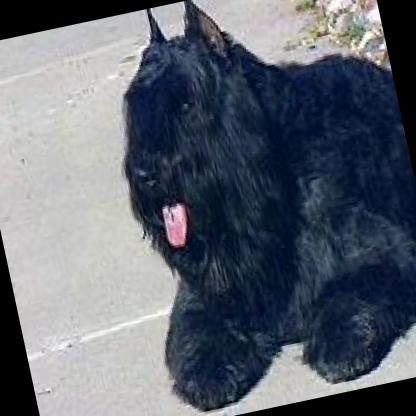Bouvier_des_Flandres: (81, 0, 416, 416)
